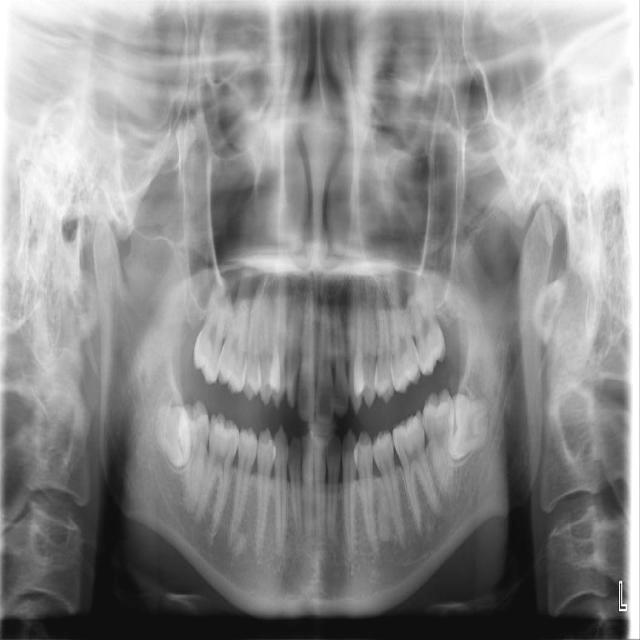Periapical lesion: (277, 277, 292, 329), (428, 487, 446, 519), (414, 511, 427, 542), (184, 502, 198, 516)
impacted tooth: (450, 394, 496, 452), (150, 403, 189, 464)
